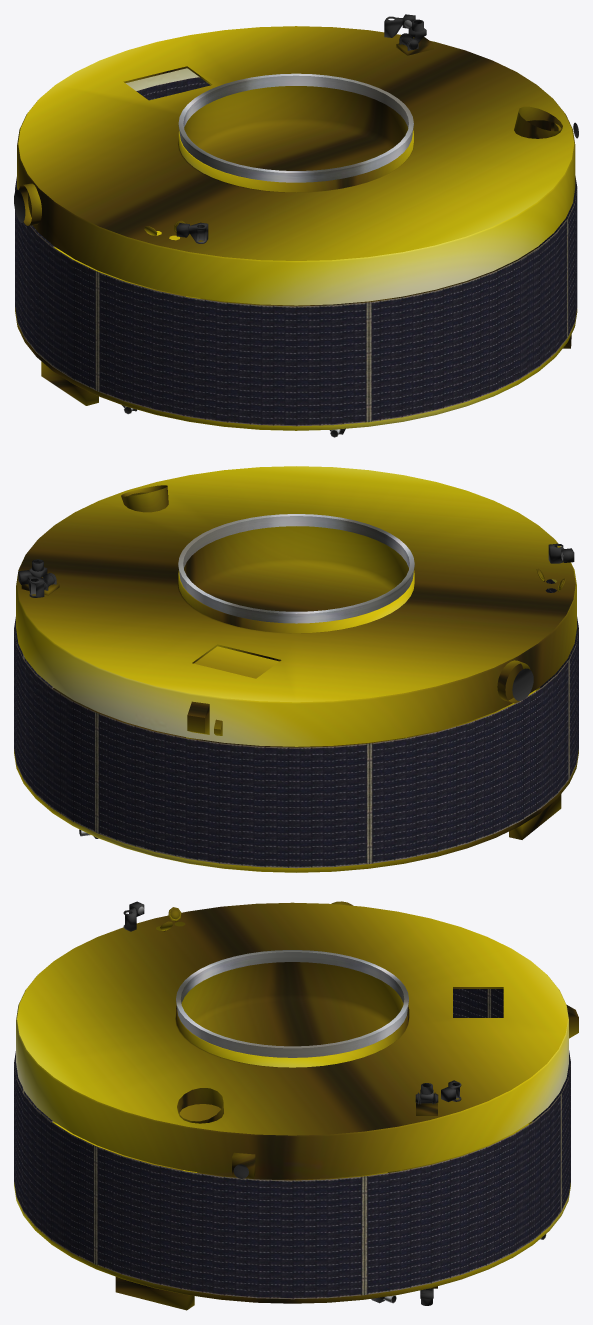
The model's file is cluster-ii-body.glb.
3 renders of one model, top to bottom at view 1: azimuth 30°, elevation 25°; view 2: azimuth 150°, elevation 25°; view 3: azimuth 270°, elevation 25°, orthographic.
Parts seen in each view (by area): view 1: body; view 2: body; view 3: body.
Boxes of the visible parts, x1,y1,x2,y2 form: body: (14,14,578,437); body: (14,466,578,872); body: (14,901,578,1310).
Bounding box in the file's own units: 2.9 × 1.3 × 2.82.
Materials: 1 (1 with a texture image).
